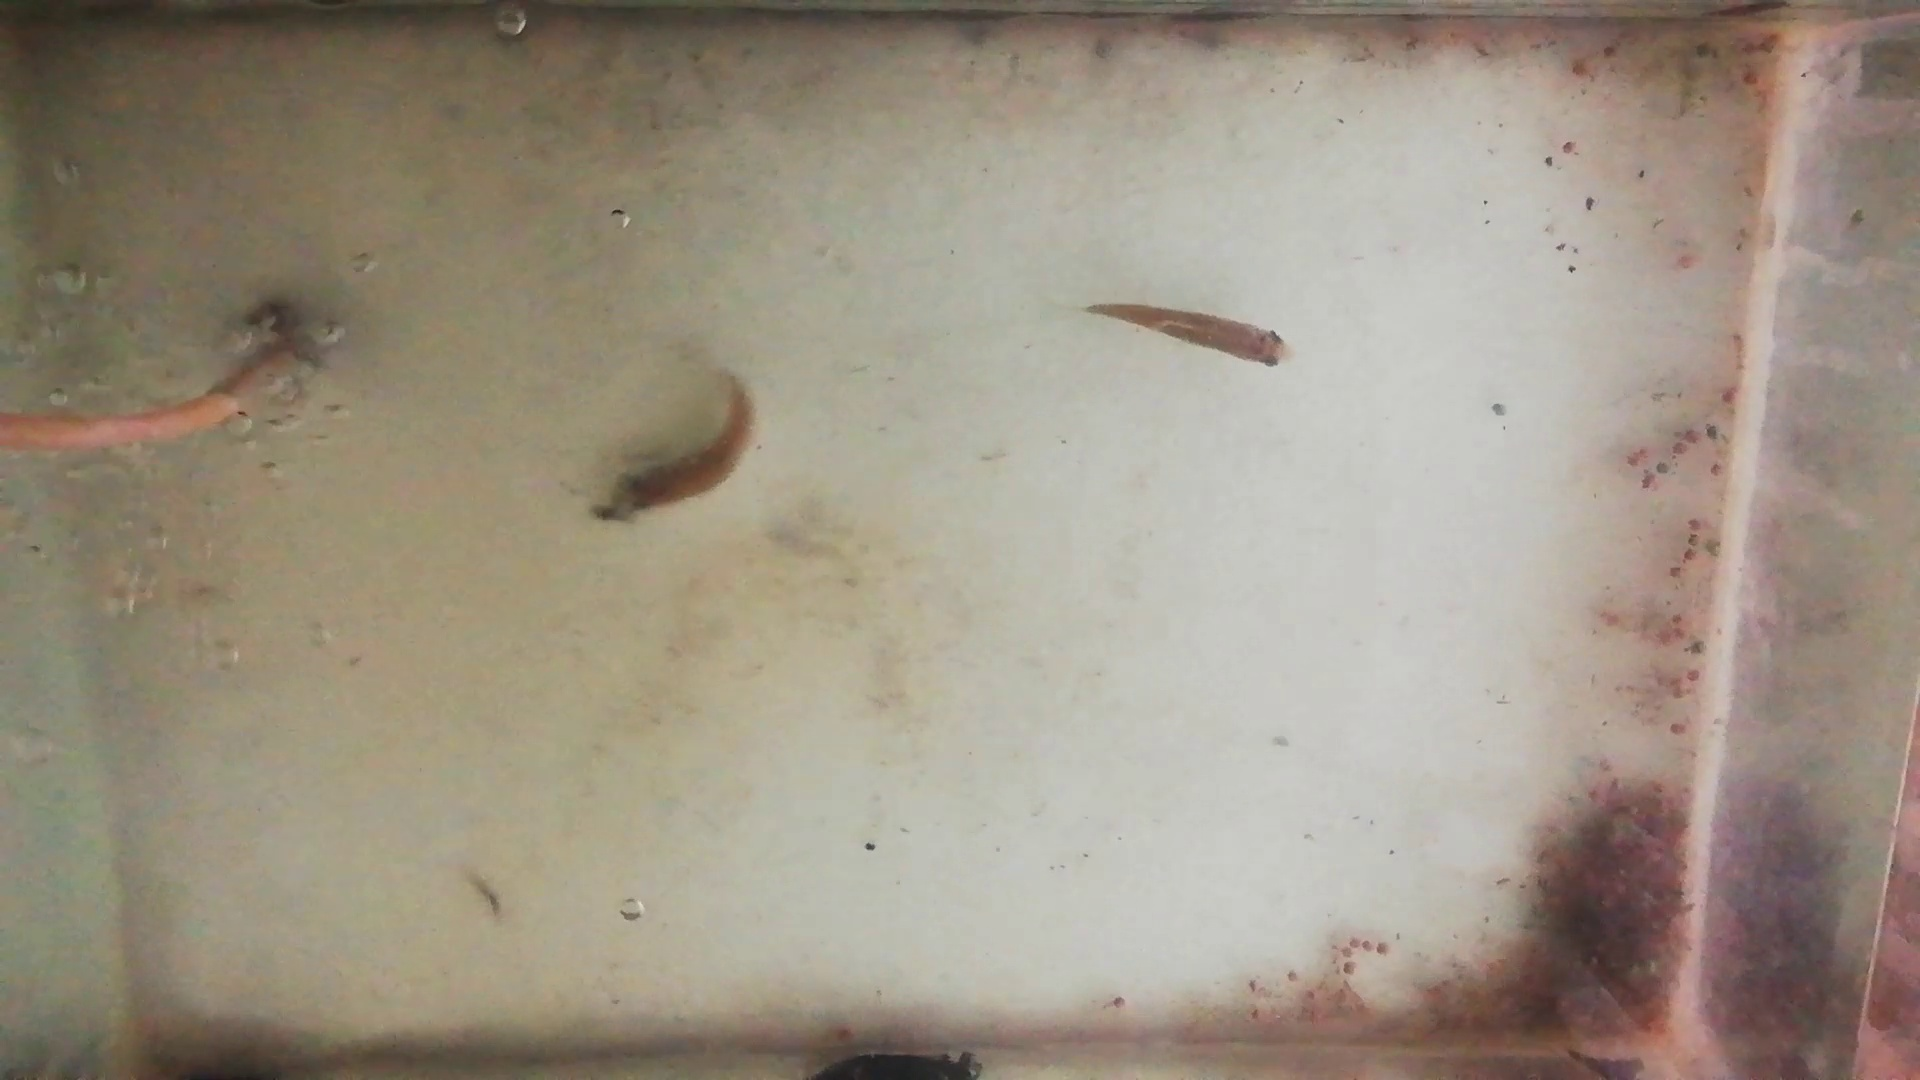fish: (609, 371, 756, 517), (1085, 301, 1292, 369)
